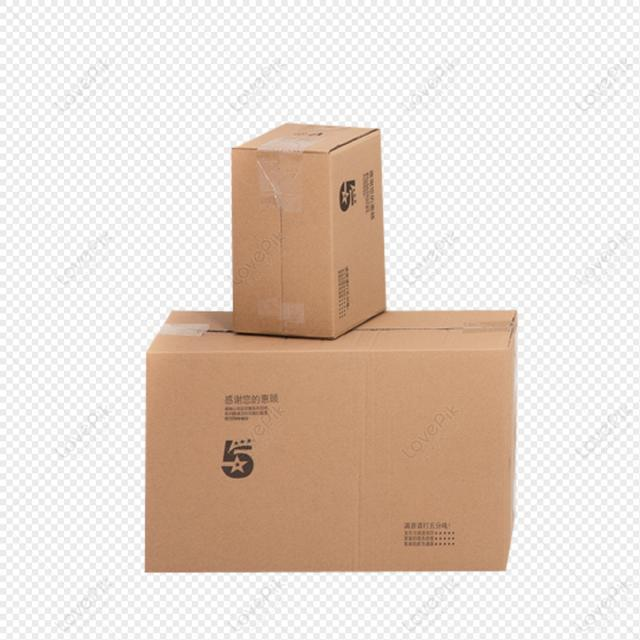box: (145, 311, 517, 573), (231, 123, 393, 341)
